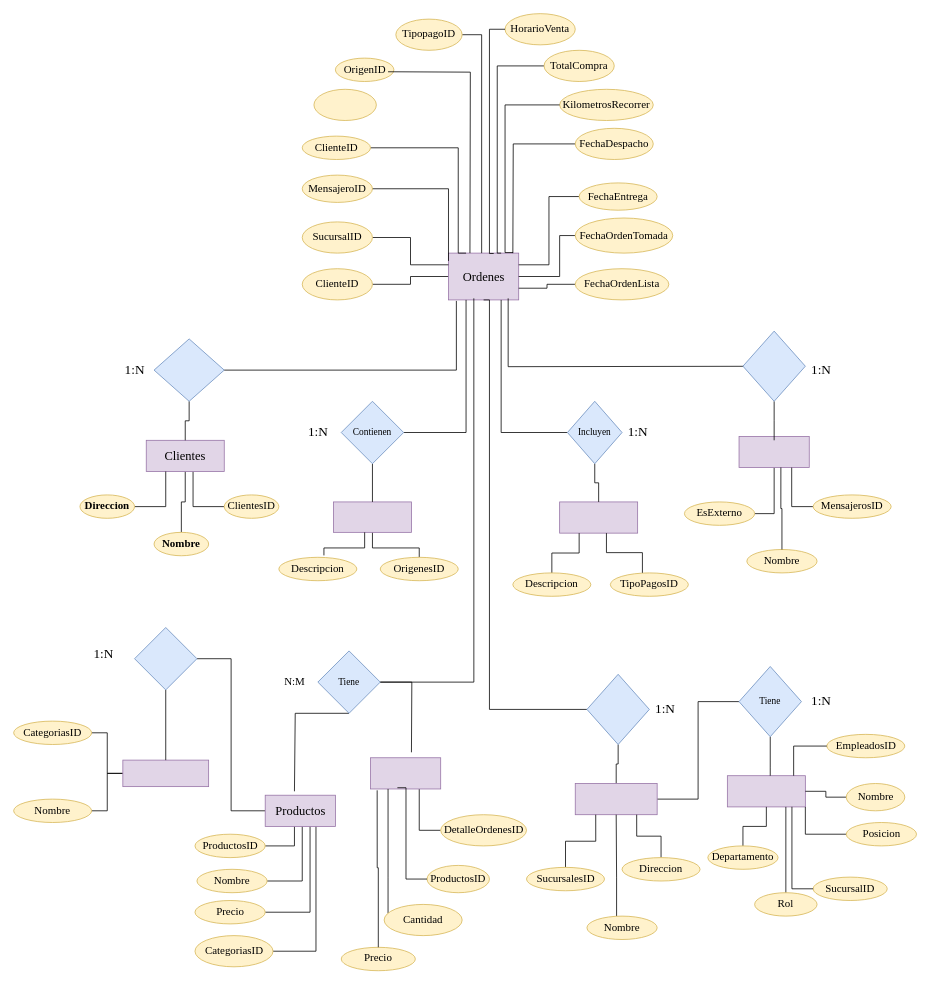
Image size: 931x991. Some labels were removed from this diagram. Each missing label, with the box of its shape:
Categorias: (122, 759, 209, 787)
DetalleOrden: (370, 757, 441, 789)
EmpleadoID: (313, 89, 376, 121)
Empleados: (727, 775, 805, 807)
Entrega: (742, 330, 805, 401)
Mensajeros: (738, 436, 809, 468)
Origenes: (333, 501, 411, 532)
Pertenecen: (134, 627, 197, 690)
Posee: (586, 674, 649, 745)
Recibe: (153, 338, 224, 401)
Sucursales: (574, 783, 657, 815)
Tipo de pago: (559, 501, 638, 533)
